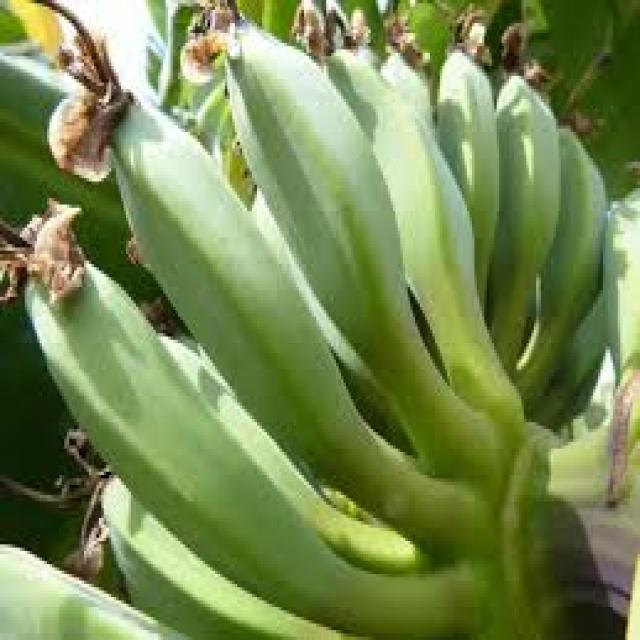banana: (12, 34, 631, 626)
